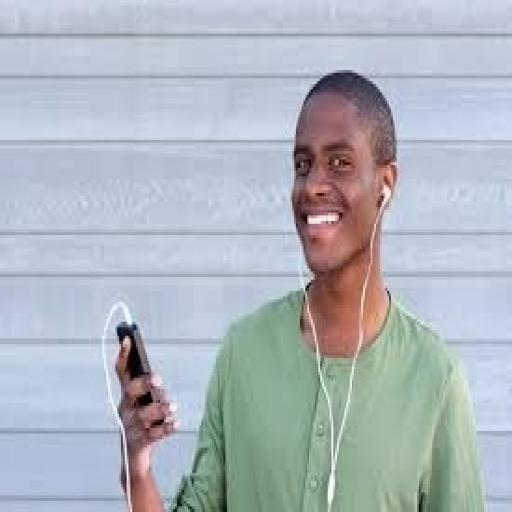listening_to_music: (112, 67, 490, 509)
